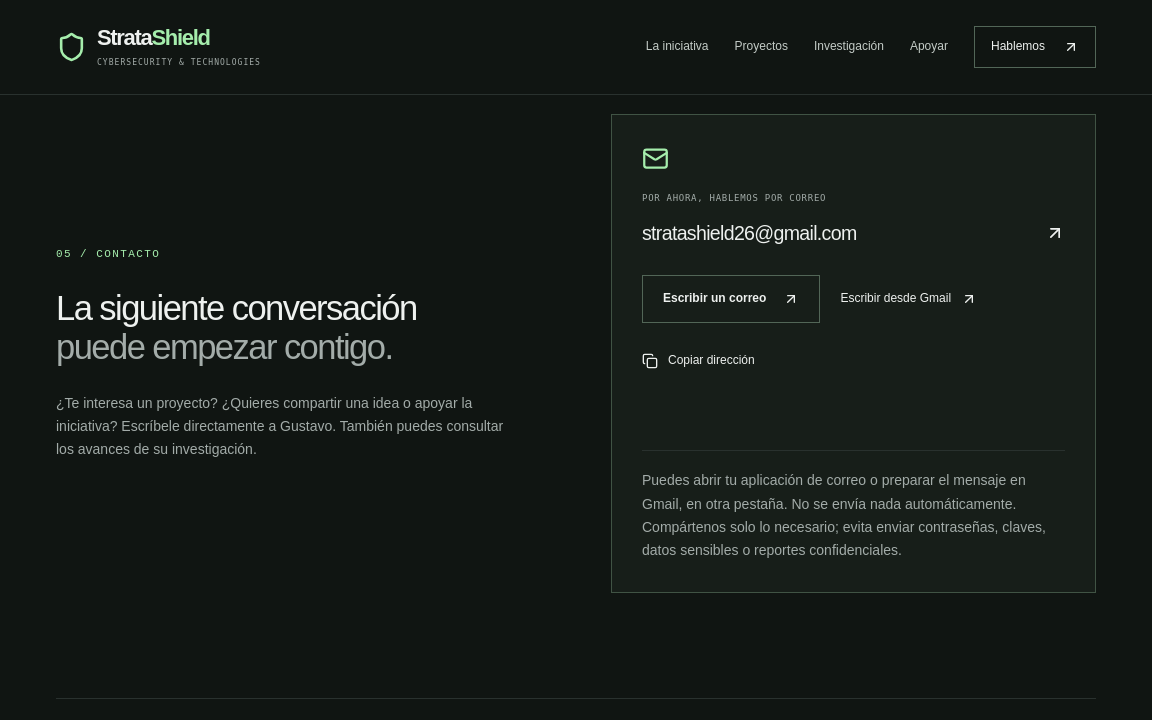
Test: Presentación estática › copia la dirección y anuncia el resultado
(page scrolled)
Click the button "Copiar dirección" at coordinates (698, 360), box [642, 343, 755, 378]
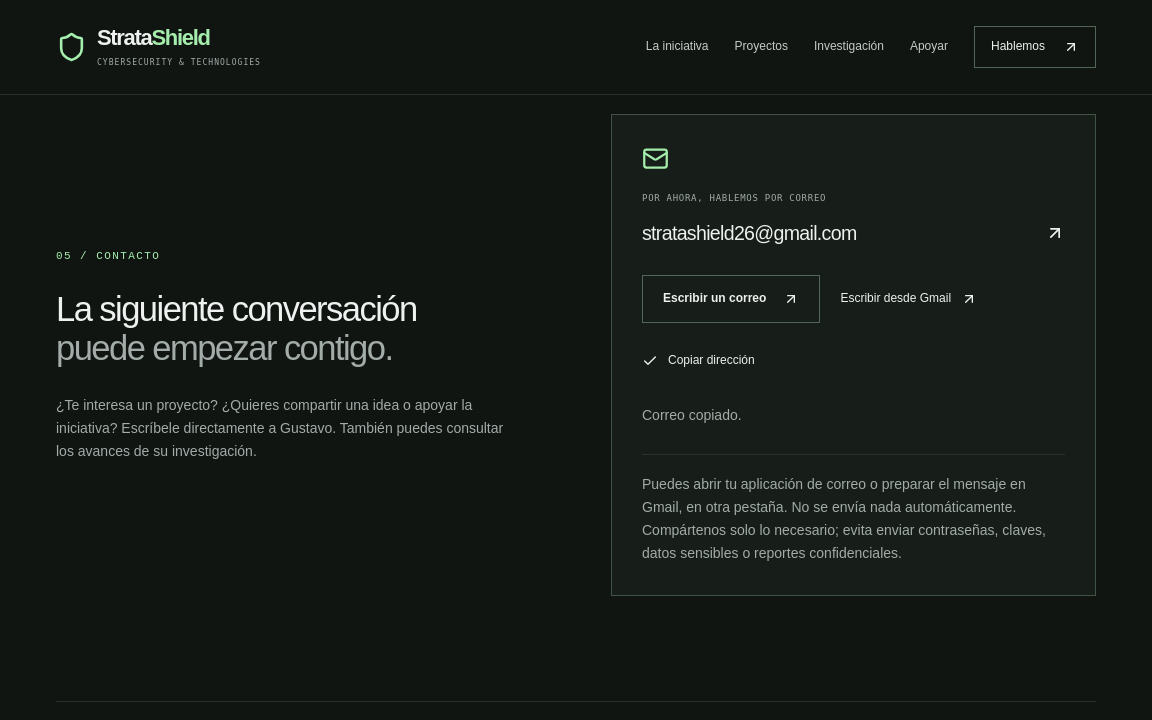
Expected: the message "Correo copiado." is shown, [642, 407, 742, 423]
